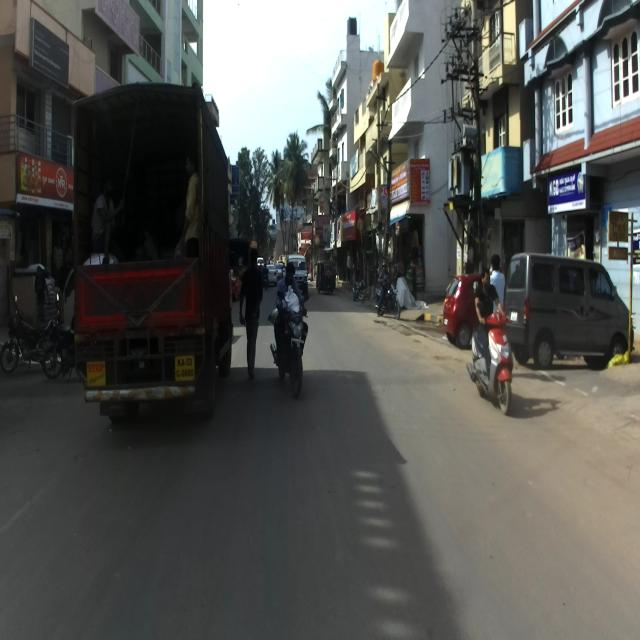motorcycle ahead at: (467, 300, 518, 412), (270, 292, 316, 402)
truck ahead at: (75, 77, 236, 418)
